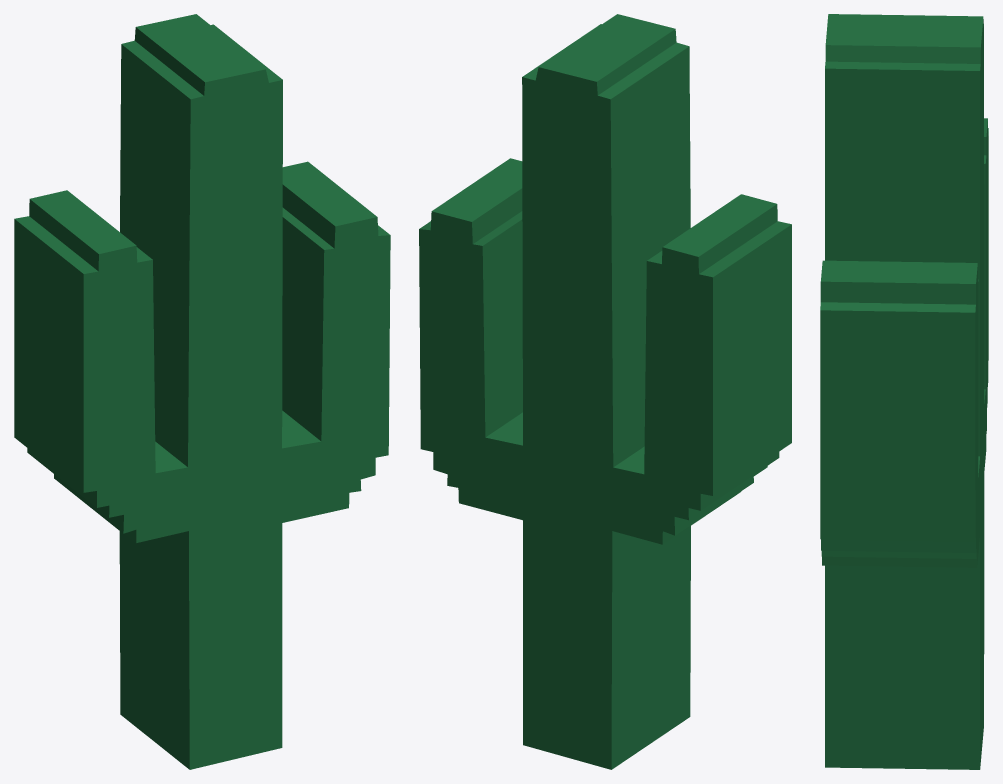
File: cactus.glb
The picture shows the model from 3 angles, left to right: view 1: azimuth 30°, elevation 25°; view 2: azimuth 150°, elevation 25°; view 3: azimuth 270°, elevation 25°; orthographic projection. The views are drawn at different scales.
Visible parts, largest first — view 1: Vert.002; view 2: Vert.002; view 3: Vert.002.
Boxes of the visible parts, bbox=[...] form: Vert.002: bbox=[14, 14, 390, 769]; Vert.002: bbox=[419, 14, 791, 769]; Vert.002: bbox=[820, 14, 988, 769].
Bounding box in the file's own units: 1.52 × 3.25 × 0.693.
